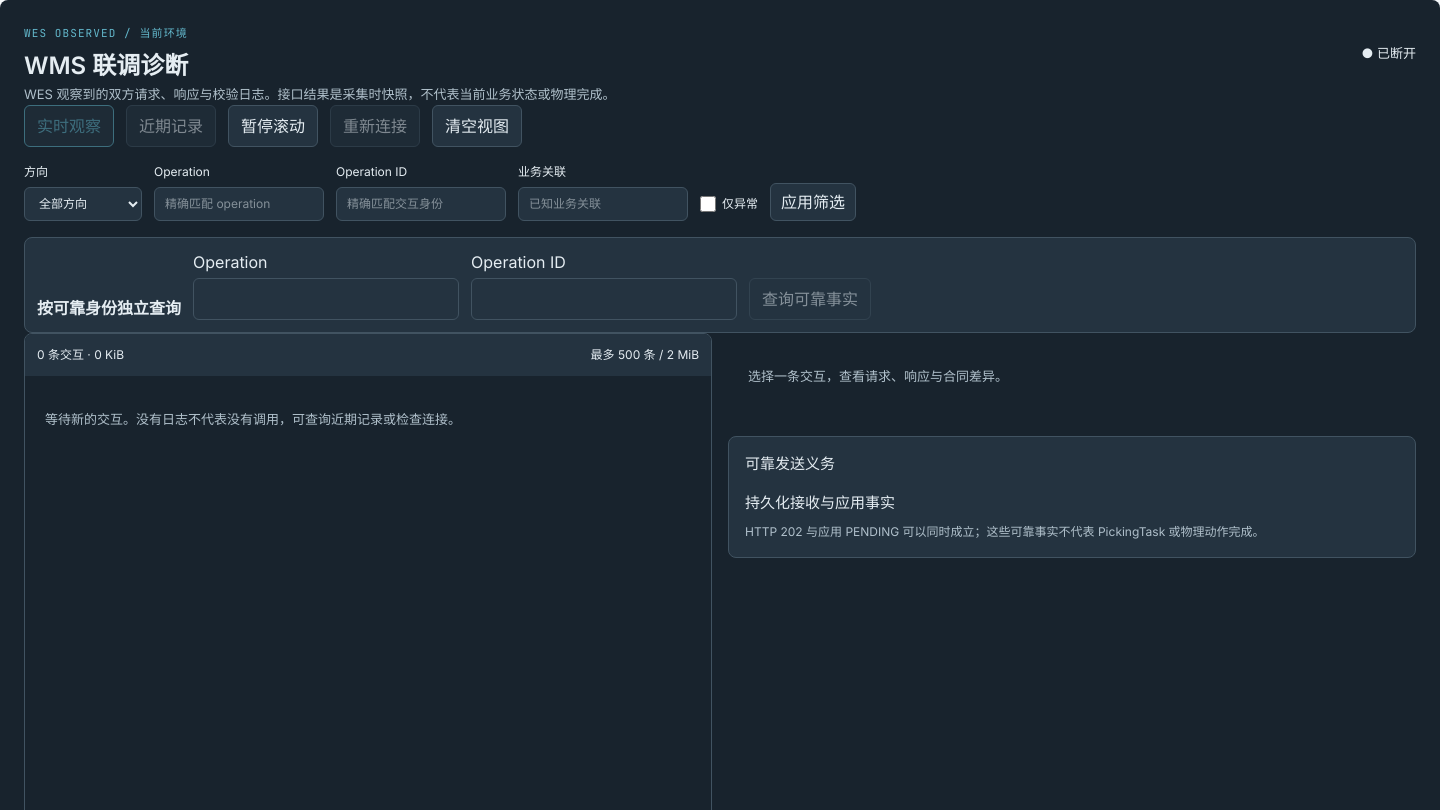
it: WMS 联调页面权限与现场含义 › 以各自权限独立查询并并列展示可靠发送与接收事实
This screenshot has width=1440, height=810.
Type "transport.task.resulted@v1" into the field named "operation" at (326, 299), box [193, 278, 459, 320]
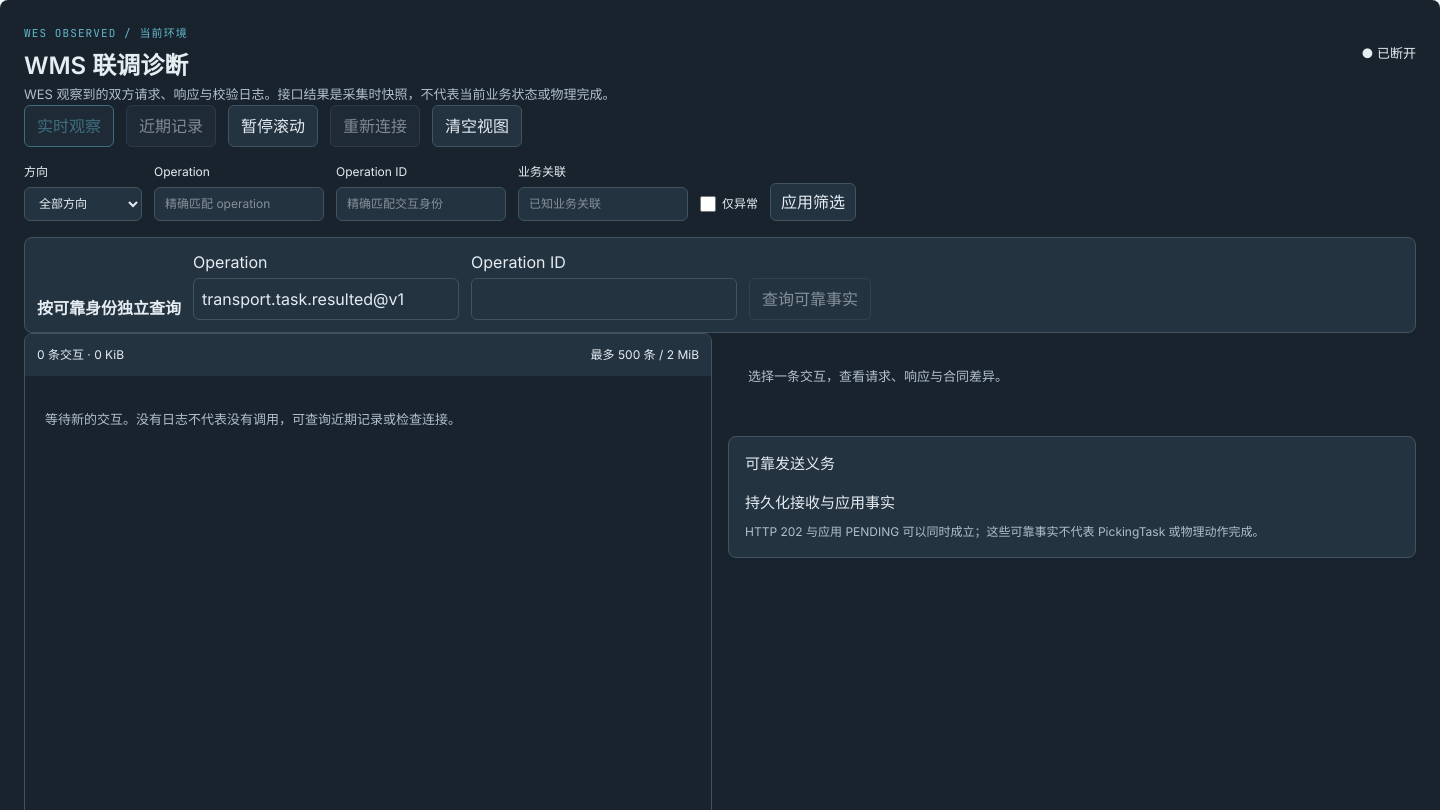
Type "op-1" into the field named "operation_id" at (604, 299), box [471, 278, 737, 320]
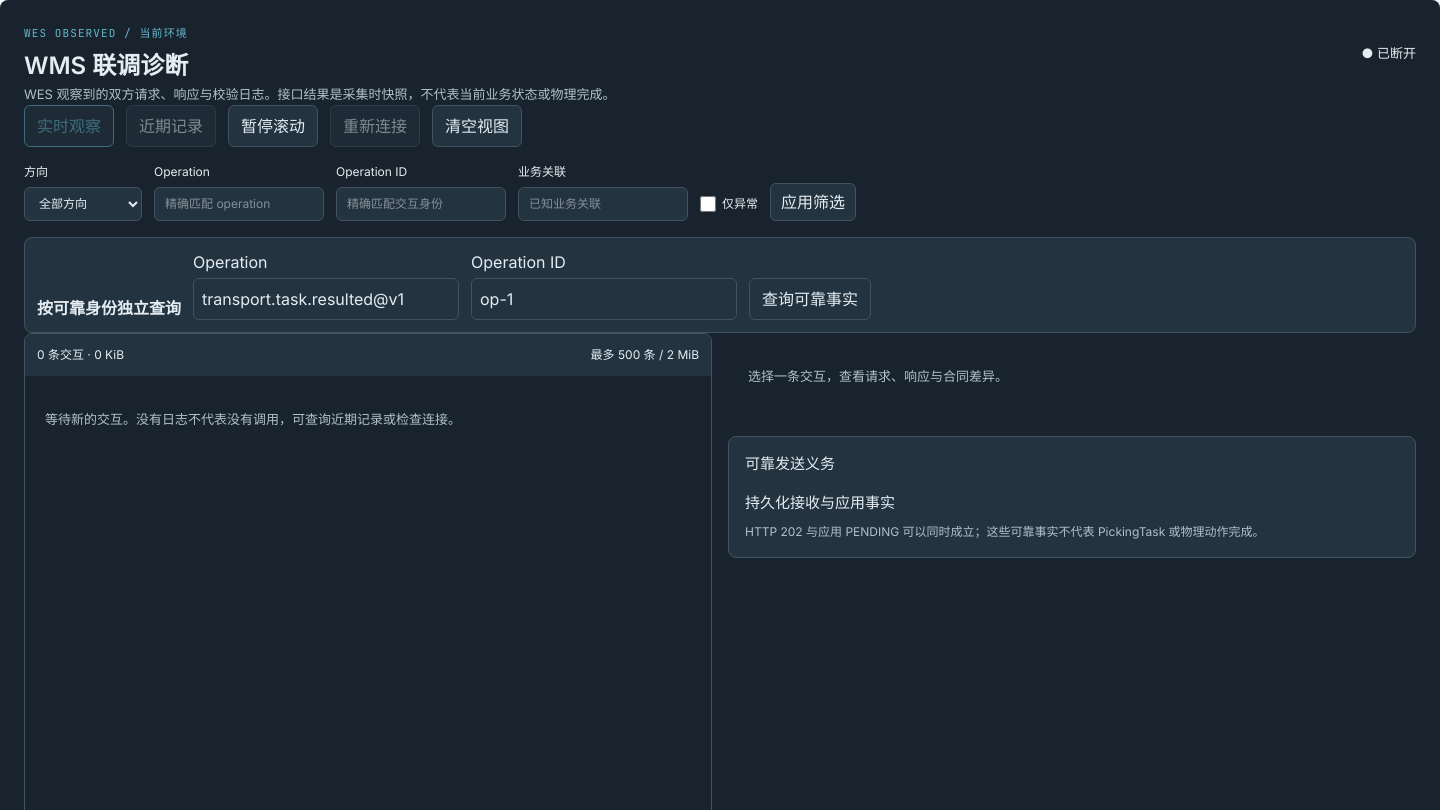
Submit the form "按可靠身份独立查询 Operation Operation ID 查询可靠事实", box [24, 237, 1416, 333]
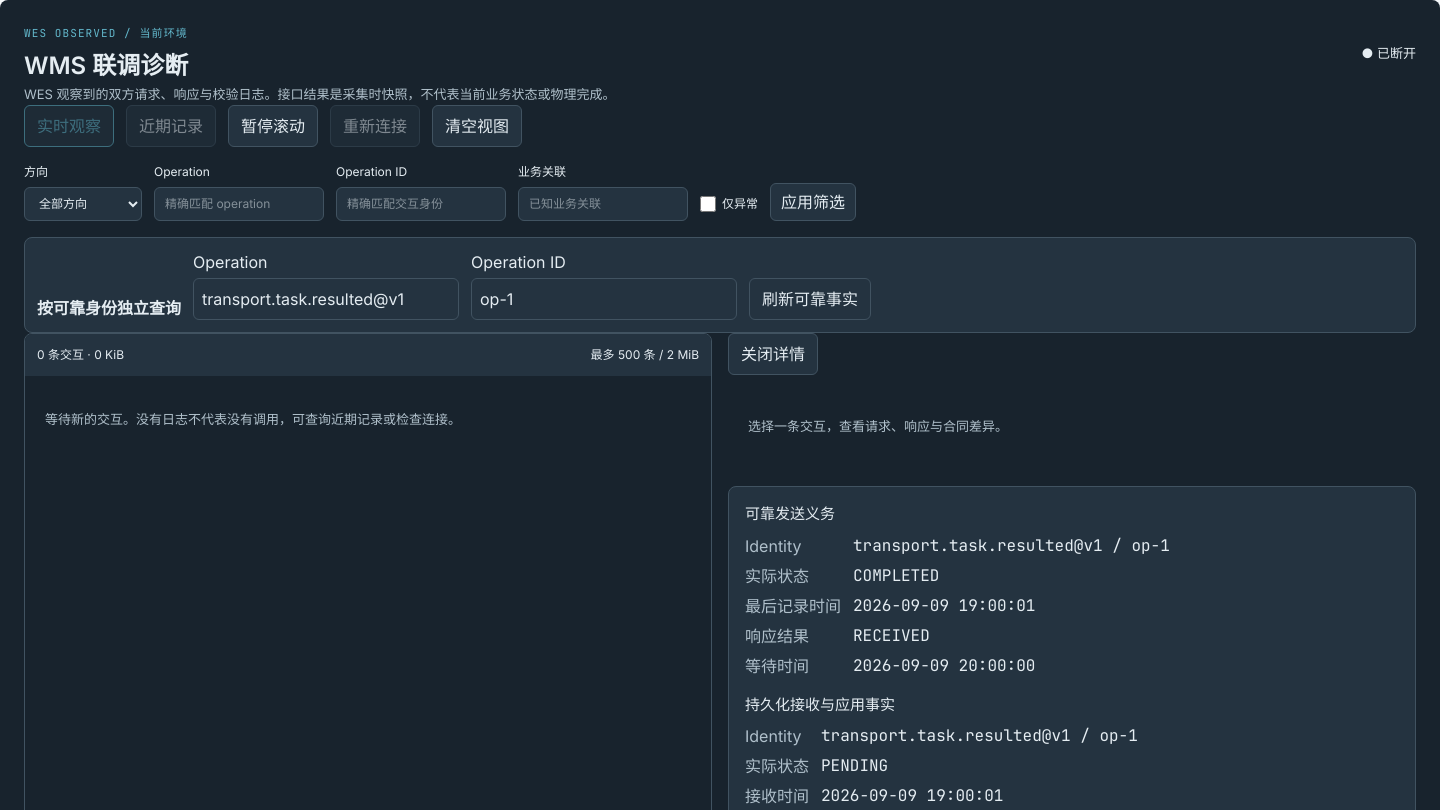
Expected: the text "可靠发送义务" is shown, [745, 504, 835, 523]
Result: the text "COMPLETED" is shown at [853, 565, 939, 586]
